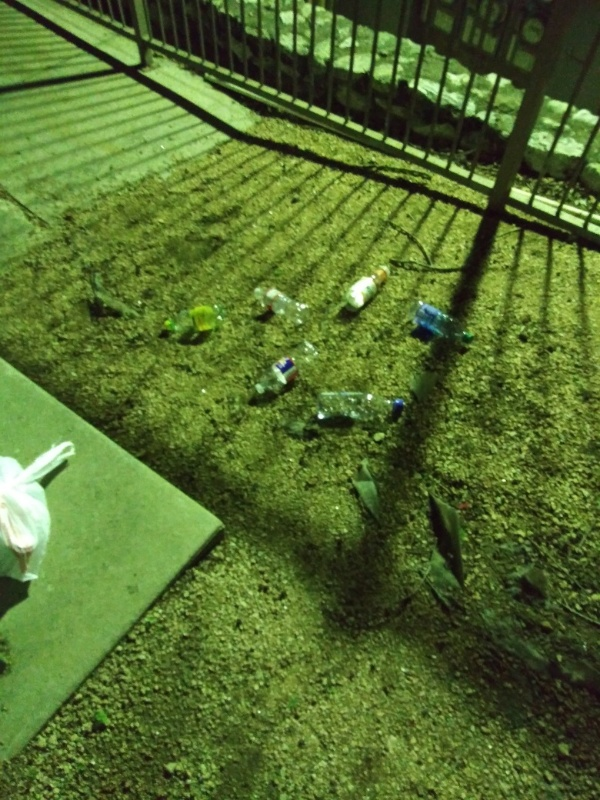bottle: (250, 338, 324, 399), (403, 293, 475, 352), (314, 388, 409, 425), (249, 282, 315, 327), (339, 260, 394, 314), (160, 298, 231, 338)
